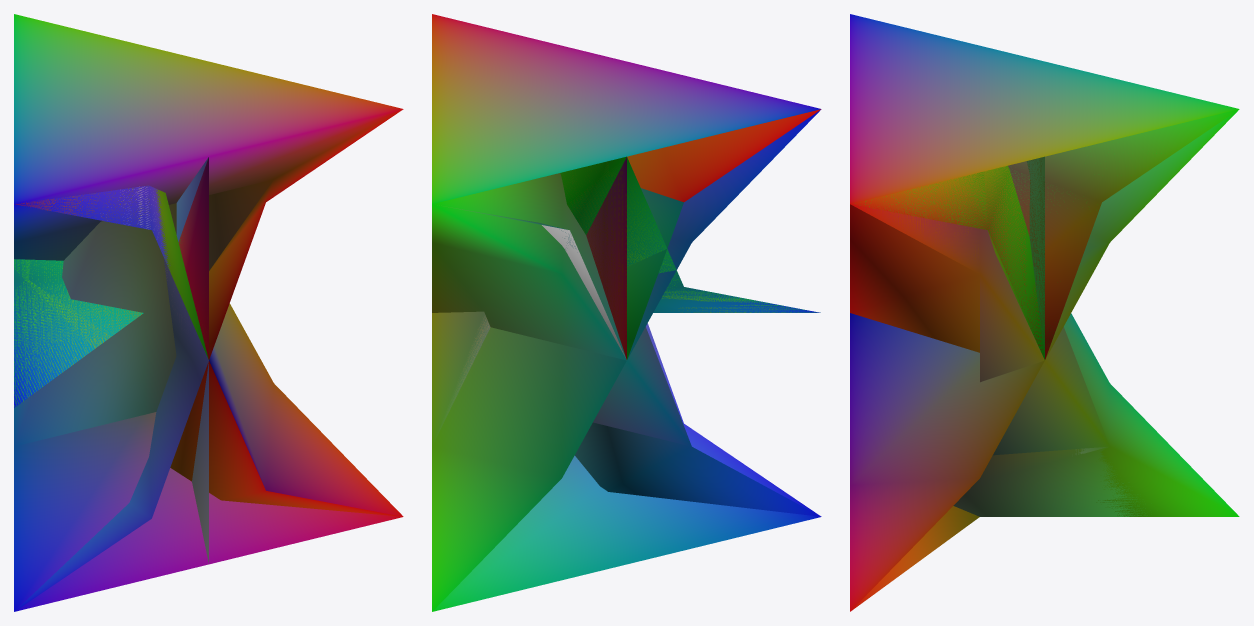
The model's file is GenCaves3.fbx.
3 renders of one model, left to right at view 1: azimuth 30°, elevation 25°; view 2: azimuth 150°, elevation 25°; view 3: azimuth 270°, elevation 25°, orthographic.
Parts seen in each view (by area): view 1: Floor, Lower Slope, Tunnel Slope Double, Lower Curve, Upper Slope, Tunnel Broad Ledge Obsolete, Tunnel Curve, Tunnel Slope, Tunnel Slope Ledge, Upper Curve, Tunnel Broad Stair Obsolete, End Baseboard (+1 smaller); view 2: Floor, Upper Slope, Tunnel Slope, Tunnel Slope Double, Lower Slope, Tunnel Broad Ledge Obsolete, Corner Gutter, Tunnel Curve, Corner, Revcorner Baseboard, Tunnel Broad Stair Obsolete, Revcorner Gutter (+1 smaller); view 3: Floor, Lower Curve, Tunnel Slope Ledge, End Baseboard, Tunnel Slope Double, Upper Curve, Tunnel Broad Ledge Obsolete, Tunnel Curve, Upper Slope, Tunnel Broad Stair Obsolete, Corner, Revcorner.
Boxes of the visible parts, bbox=[...] form: Floor: bbox=[14, 14, 403, 203]; Lower Slope: bbox=[14, 412, 402, 611]; Tunnel Slope Double: bbox=[14, 179, 273, 446]; Lower Curve: bbox=[176, 157, 403, 516]; Upper Slope: bbox=[14, 109, 402, 260]; Tunnel Broad Ledge Obsolete: bbox=[14, 259, 143, 407]; Tunnel Curve: bbox=[15, 185, 208, 563]; Tunnel Slope: bbox=[15, 186, 208, 610]; Tunnel Slope Ledge: bbox=[170, 361, 401, 516]; Upper Curve: bbox=[209, 110, 401, 359]; Tunnel Broad Stair Obsolete: bbox=[14, 259, 141, 406]; End Baseboard: bbox=[178, 157, 208, 359]; Floor: bbox=[432, 14, 821, 203]; Upper Slope: bbox=[432, 110, 820, 611]; Tunnel Slope: bbox=[432, 316, 820, 611]; Tunnel Slope Double: bbox=[432, 173, 821, 516]; Lower Slope: bbox=[432, 204, 691, 446]; Tunnel Broad Ledge Obsolete: bbox=[560, 156, 820, 312]; Corner Gutter: bbox=[627, 109, 820, 202]; Tunnel Curve: bbox=[432, 311, 490, 446]; Corner: bbox=[586, 157, 626, 359]; Revcorner Baseboard: bbox=[627, 188, 683, 359]; Tunnel Broad Stair Obsolete: bbox=[567, 158, 816, 312]; Revcorner Gutter: bbox=[542, 225, 625, 357]; Floor: bbox=[850, 14, 1239, 203]; Lower Curve: bbox=[850, 110, 1238, 611]; Tunnel Slope Ledge: bbox=[850, 204, 1239, 610]; End Baseboard: bbox=[1008, 109, 1238, 359]; Tunnel Slope Double: bbox=[851, 204, 1109, 455]; Upper Curve: bbox=[953, 447, 1147, 516]; Tunnel Broad Ledge Obsolete: bbox=[850, 165, 1044, 359]; Tunnel Curve: bbox=[852, 204, 1109, 454]; Upper Slope: bbox=[1064, 313, 1238, 516]; Tunnel Broad Stair Obsolete: bbox=[870, 166, 1044, 358]; Corner: bbox=[1026, 156, 1044, 358]; Revcorner: bbox=[1027, 158, 1044, 323].
Size of the model in its own units: 2 by 2 by 1.73.
